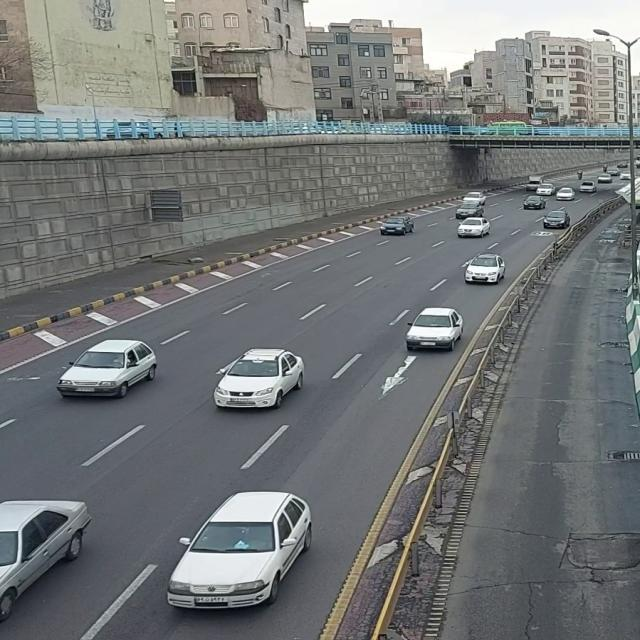Car: (161, 483, 326, 627), (3, 495, 95, 631), (55, 337, 168, 403), (211, 347, 307, 411), (406, 307, 465, 356), (464, 254, 506, 289), (457, 216, 494, 240), (378, 214, 416, 236), (541, 210, 573, 232), (521, 196, 547, 212)
